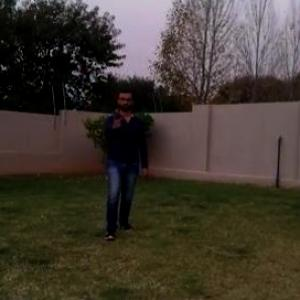takeoff-hand: (107, 109, 128, 136)
